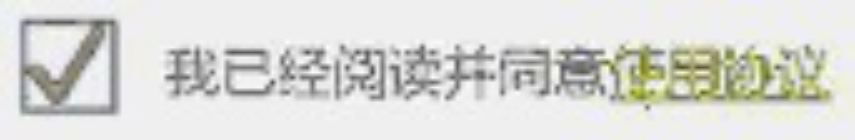CheckBox: (1, 1, 854, 139)
